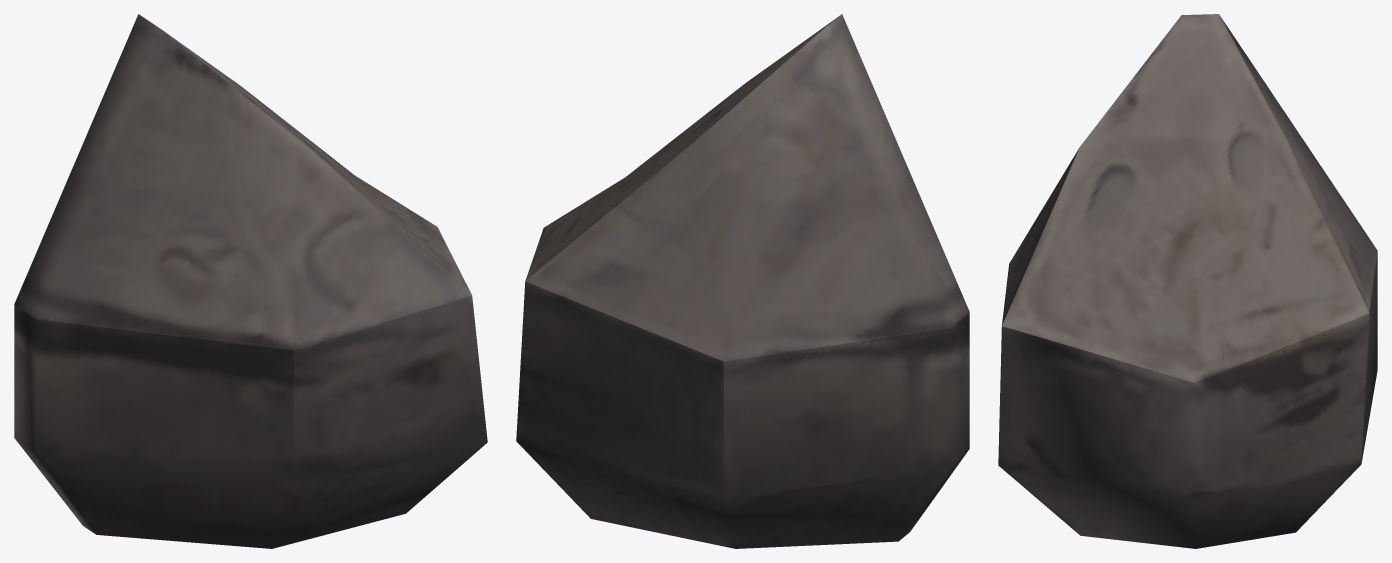
The model's file is rock_small_04.fbx.
3 views of the same model, side by side, from view 1: azimuth 30°, elevation 25°; view 2: azimuth 150°, elevation 25°; view 3: azimuth 270°, elevation 25° (orthographic). The views are drawn at different scales.
Visible parts, largest first — view 1: rock_small_04; view 2: rock_small_04; view 3: rock_small_04.
Boxes of the visible parts, left/top/right/bottom form: rock_small_04: left=14, top=14, right=487, bottom=548; rock_small_04: left=516, top=14, right=969, bottom=548; rock_small_04: left=998, top=14, right=1377, bottom=548.
Bounding box in the file's own units: 184 × 204 × 160.
Materials: 1 (1 with a texture image).
